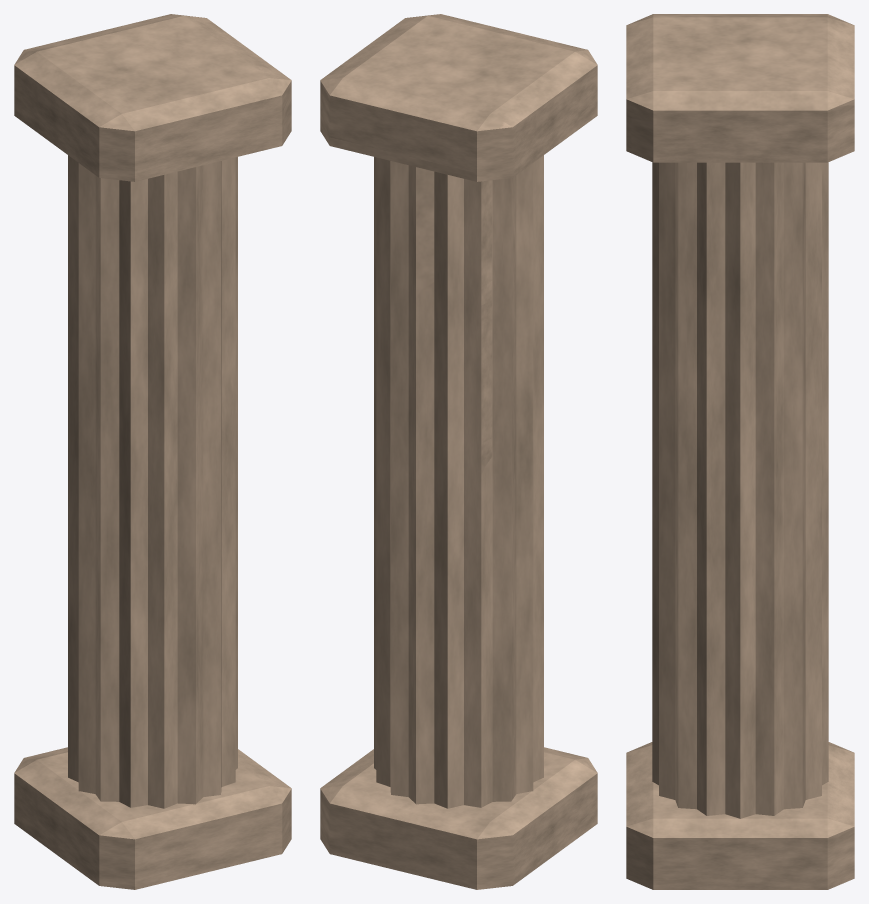
The model's file is Pillar_Rock_Square.fbx.
The picture shows the model from 3 angles, left to right: view 1: azimuth 30°, elevation 25°; view 2: azimuth 150°, elevation 25°; view 3: azimuth 270°, elevation 25°; orthographic projection. The views are drawn at different scales.
Parts seen in each view (by area): view 1: Pillar_SquareTop_White_Base, Cube.008, Cube.009; view 2: Pillar_SquareTop_White_Base, Cube.008, Cube.009; view 3: Pillar_SquareTop_White_Base, Cube.008, Cube.009.
Boxes of the visible parts, x1,y1,x2,y2 form: Pillar_SquareTop_White_Base: [68, 155, 237, 808]; Cube.008: [14, 14, 291, 181]; Cube.009: [14, 747, 291, 889]; Pillar_SquareTop_White_Base: [374, 155, 543, 808]; Cube.008: [320, 14, 597, 181]; Cube.009: [320, 747, 597, 889]; Pillar_SquareTop_White_Base: [652, 162, 828, 818]; Cube.008: [626, 14, 854, 162]; Cube.009: [626, 742, 854, 889].
Bounding box in the file's own units: 139 × 534 × 139.
Materials: 1 (1 with a texture image).
